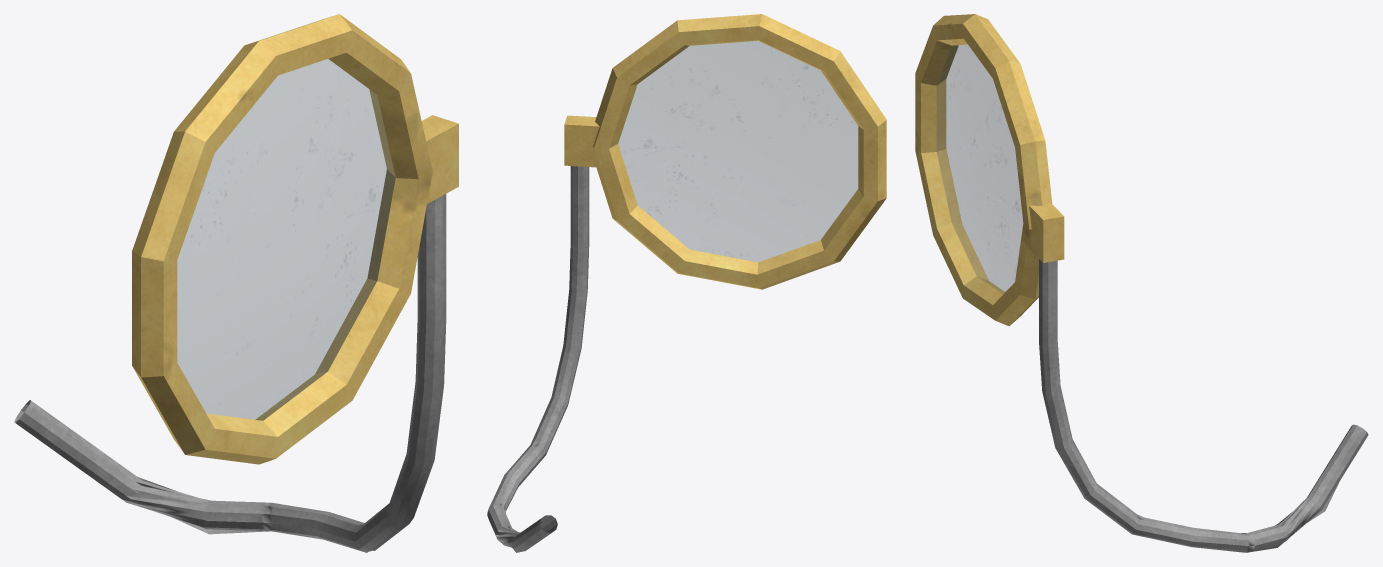
3 views of the same model, side by side, from view 1: azimuth 30°, elevation 25°; view 2: azimuth 150°, elevation 25°; view 3: azimuth 270°, elevation 25° (orthographic). The views are drawn at different scales.
Parts seen in each view (by area): view 1: monocle; view 2: monocle; view 3: monocle.
Part boxes in pixels (x1,y1,x2,y2): monocle: (14, 14, 458, 552); monocle: (487, 14, 886, 552); monocle: (915, 14, 1368, 552).
Bounding box in the file's own units: 0.4404 × 0.7257 × 0.6267.
1 material, 1 textured.
